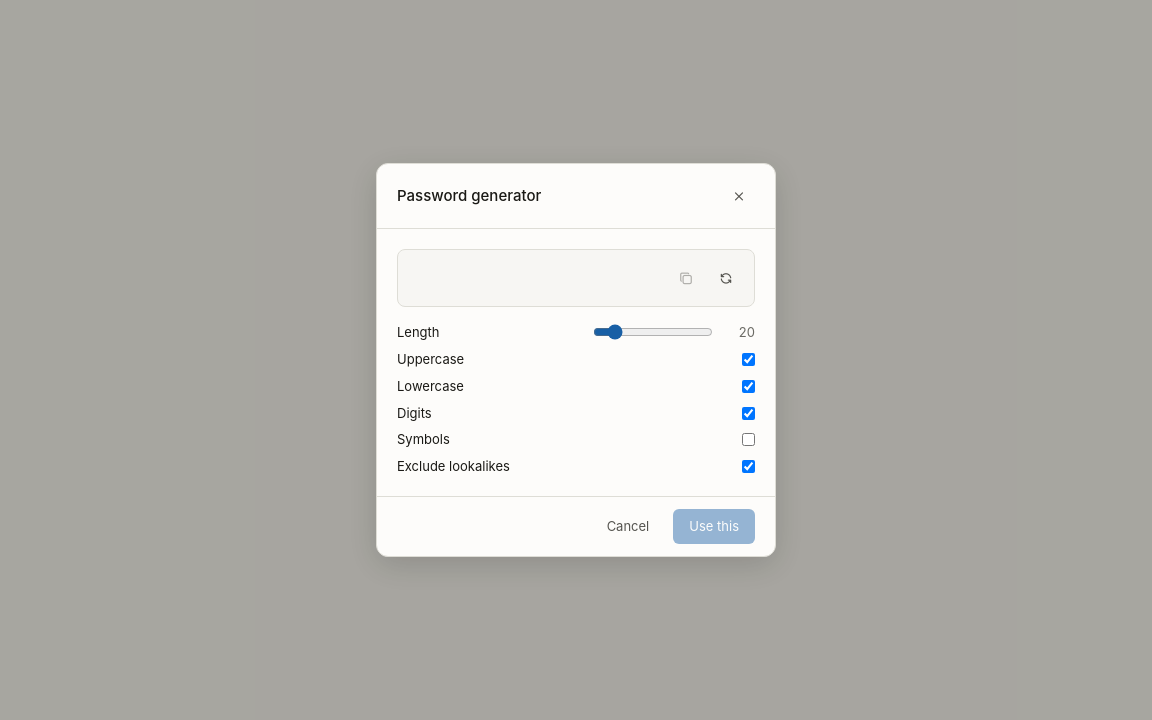
Test: GeneratorPanel errors › explains that at least one character type is required
This screenshot has width=1152, height=720.
Click the checkbox labelled "Uppercase" at (748,359), box [742, 353, 755, 366]
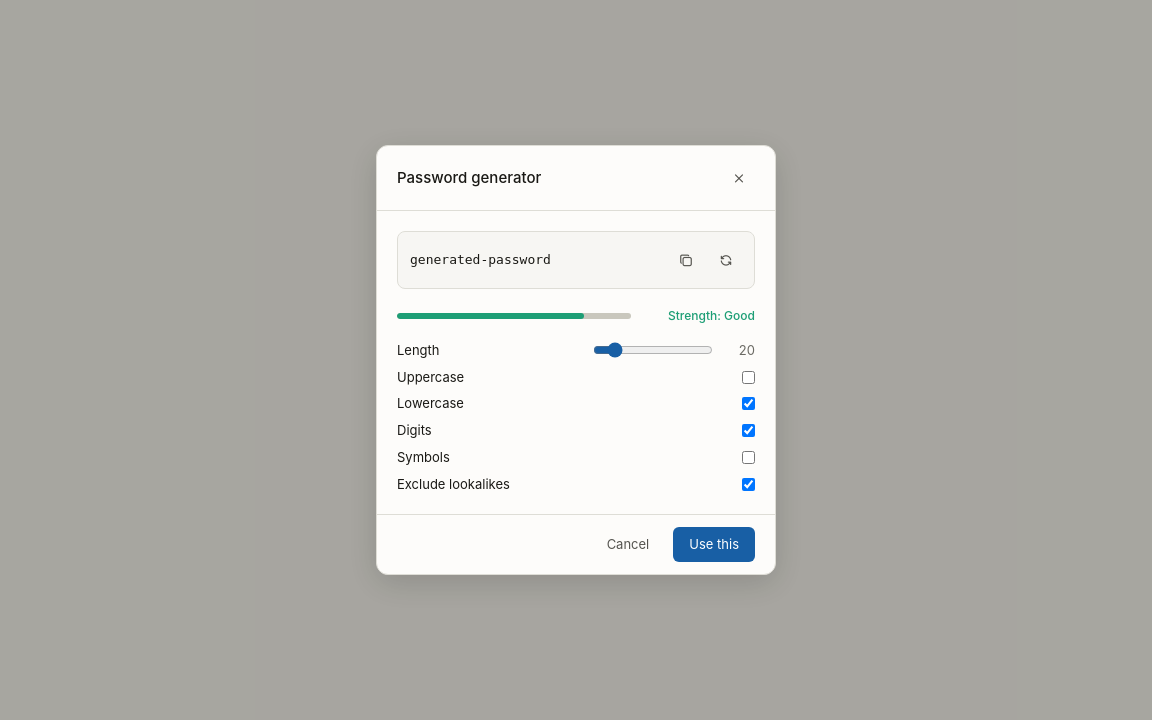
Click the checkbox labelled "Lowercase" at (748,404), box [742, 397, 755, 410]
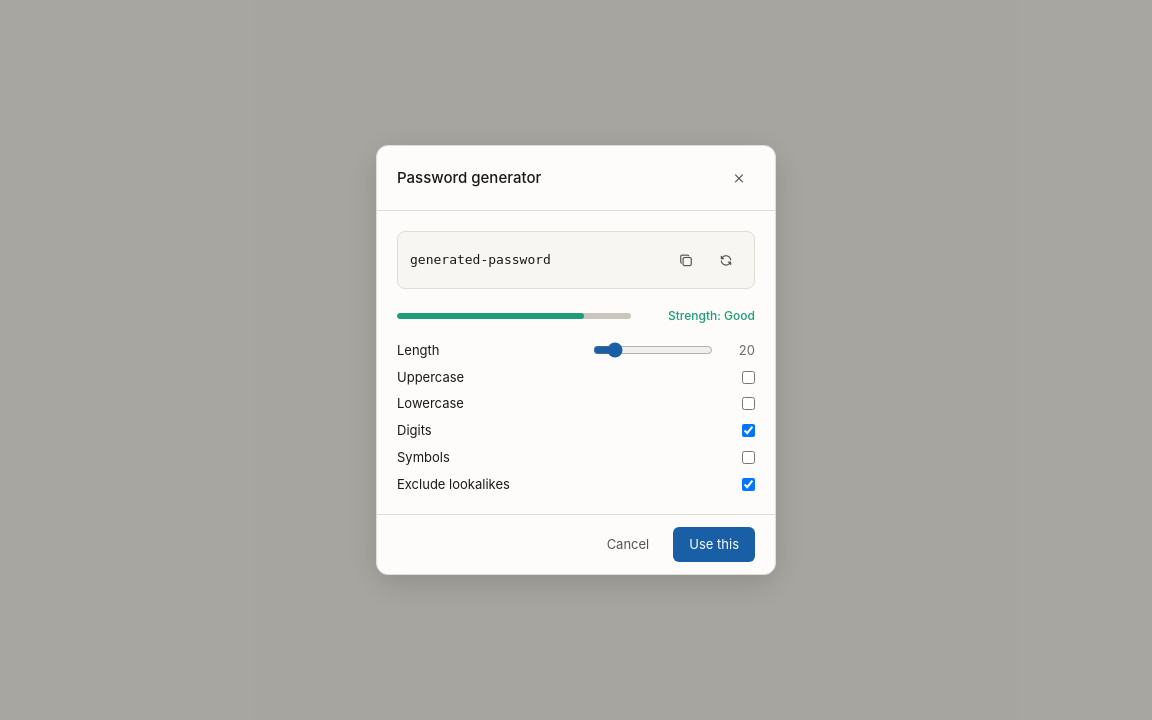
Click the checkbox labelled "Digits" at (748,431), box [742, 424, 755, 437]
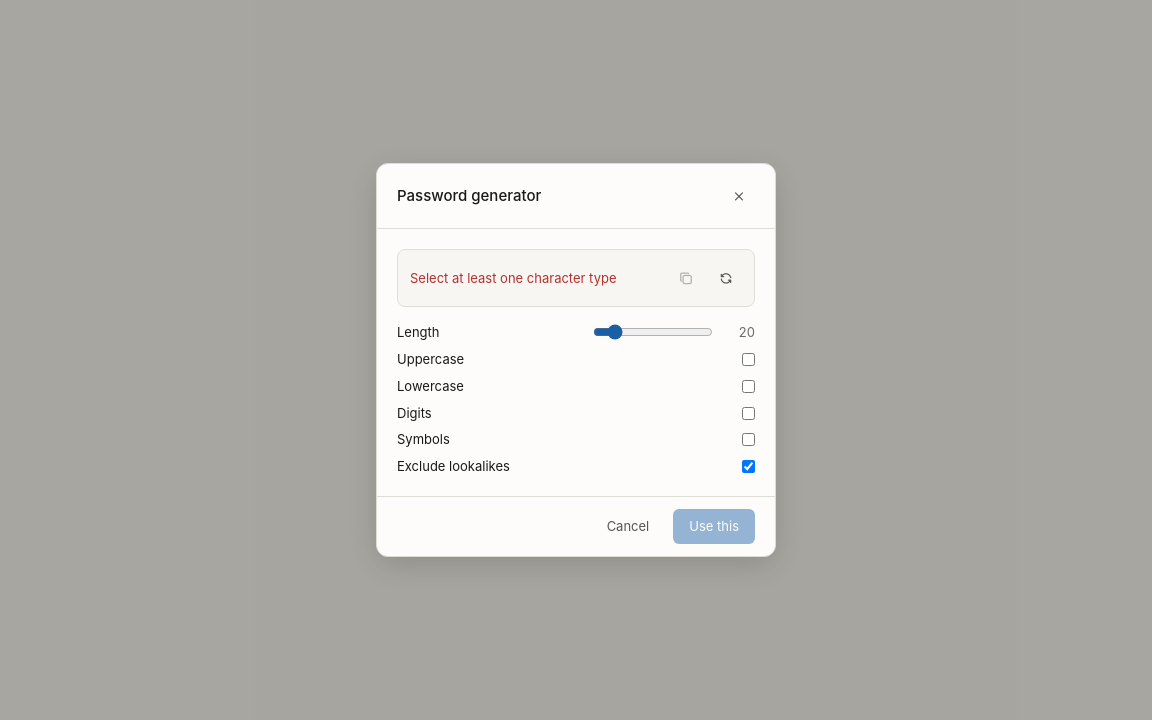
Check: the message reads "Select at least one character type", box [410, 270, 616, 286]
Check: the button "Use this" is disabled, box [673, 509, 755, 544]
